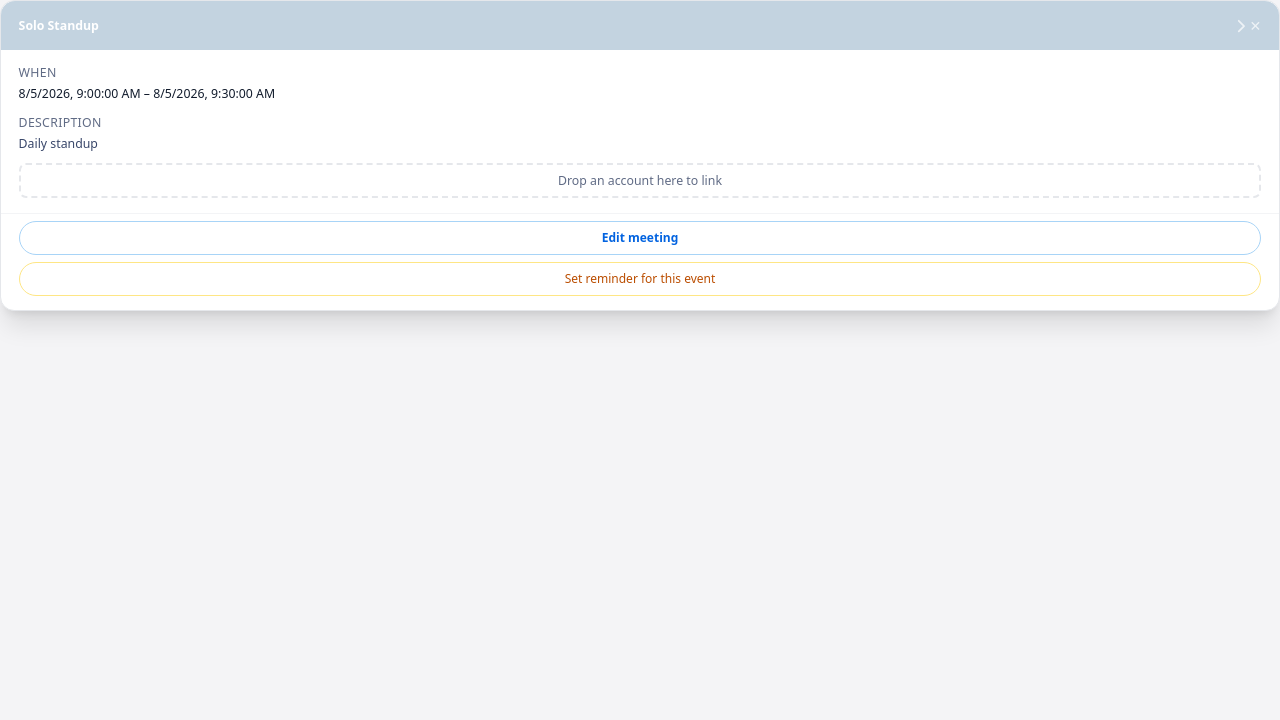
Test case: EventDetailPanel — meeting edit mode › clicking Edit meeting switches to the edit form
Click the button "Edit meeting": (640, 238) [19,220,1261,255]
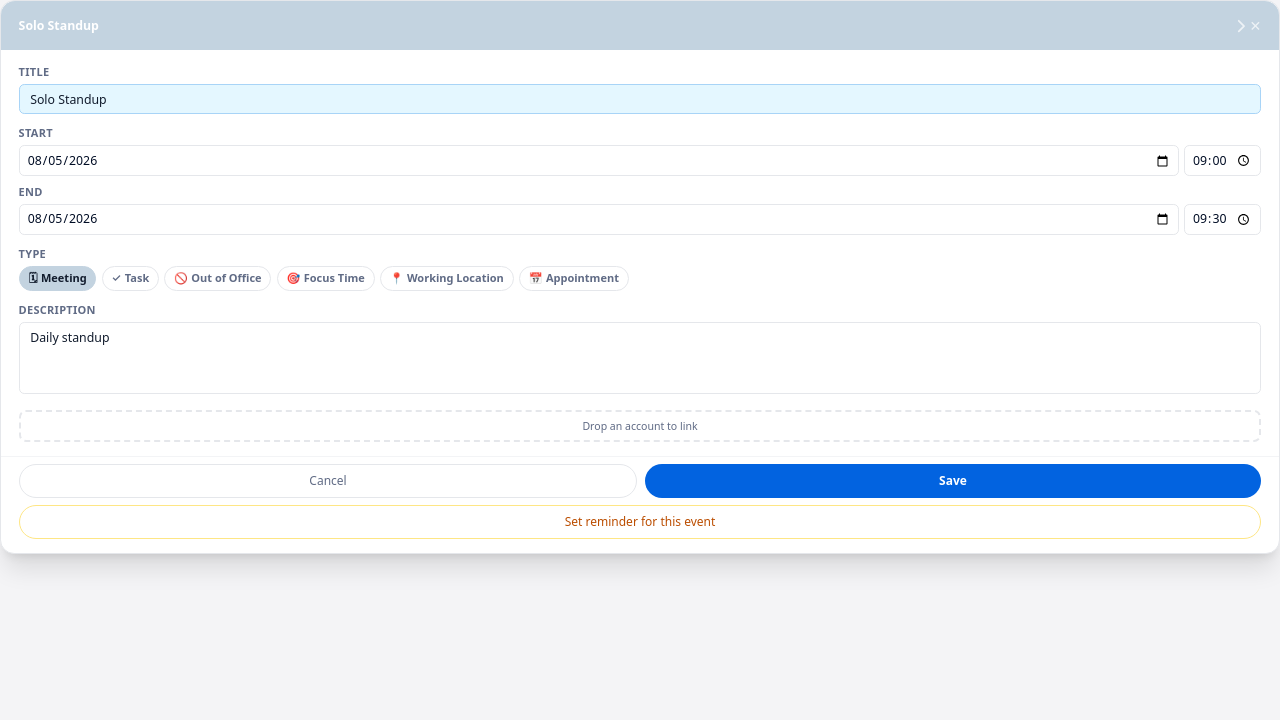
Result: the button "Save" is shown at [644,464,1261,498]
Result: the button "Cancel" is shown at [19,464,638,498]
Result: the text "Type" is shown at [19,246,46,260]
